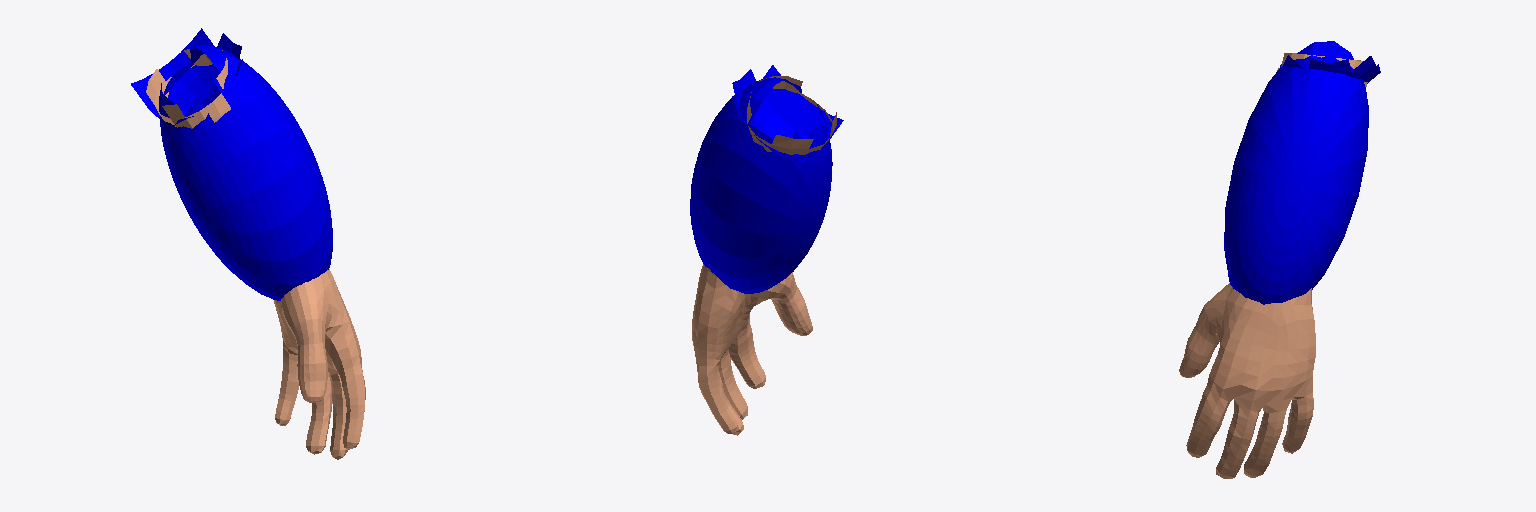
Rendered from uphand2.obj.
3 views of the same model, side by side, from view 1: azimuth 30°, elevation 25°; view 2: azimuth 150°, elevation 25°; view 3: azimuth 270°, elevation 25° (orthographic).
Visible parts, largest first — view 1: downhand1:polySurface13, downhand1:humanBody, downhand1:polySurface11; view 2: downhand1:polySurface13, downhand1:humanBody, downhand1:polySurface11; view 3: downhand1:polySurface13, downhand1:humanBody, downhand1:polySurface11.
Boxes of the visible parts, <box> form: downhand1:polySurface13: <box>159,45,332,300</box>; downhand1:humanBody: <box>146,49,365,459</box>; downhand1:polySurface11: <box>131,28,242,125</box>; downhand1:polySurface13: <box>690,77,832,293</box>; downhand1:humanBody: <box>692,76,836,435</box>; downhand1:polySurface11: <box>732,65,843,162</box>; downhand1:polySurface13: <box>1224,41,1368,304</box>; downhand1:humanBody: <box>1179,53,1367,478</box>; downhand1:polySurface11: <box>1280,55,1380,83</box>.
Bounding box in the file's own units: 1.15 × 2.67 × 1.23.